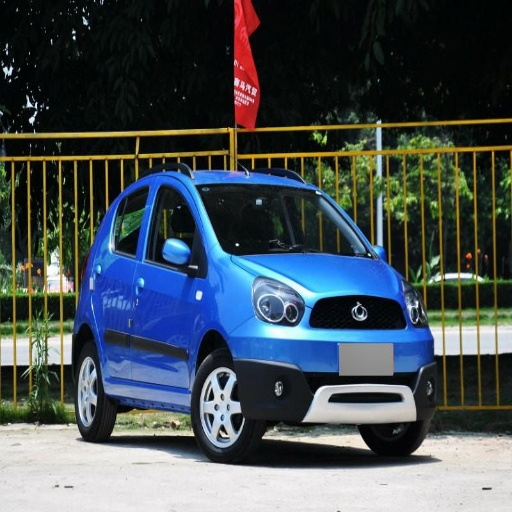front_bumper: (234, 288, 434, 421)
front_right_door: (132, 176, 201, 392)
front_right_light: (253, 277, 302, 325)
